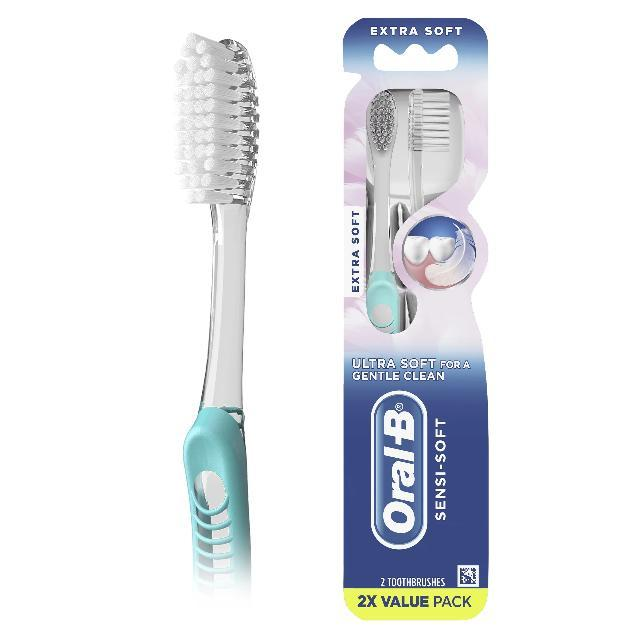toothbrush: (143, 15, 293, 621)
